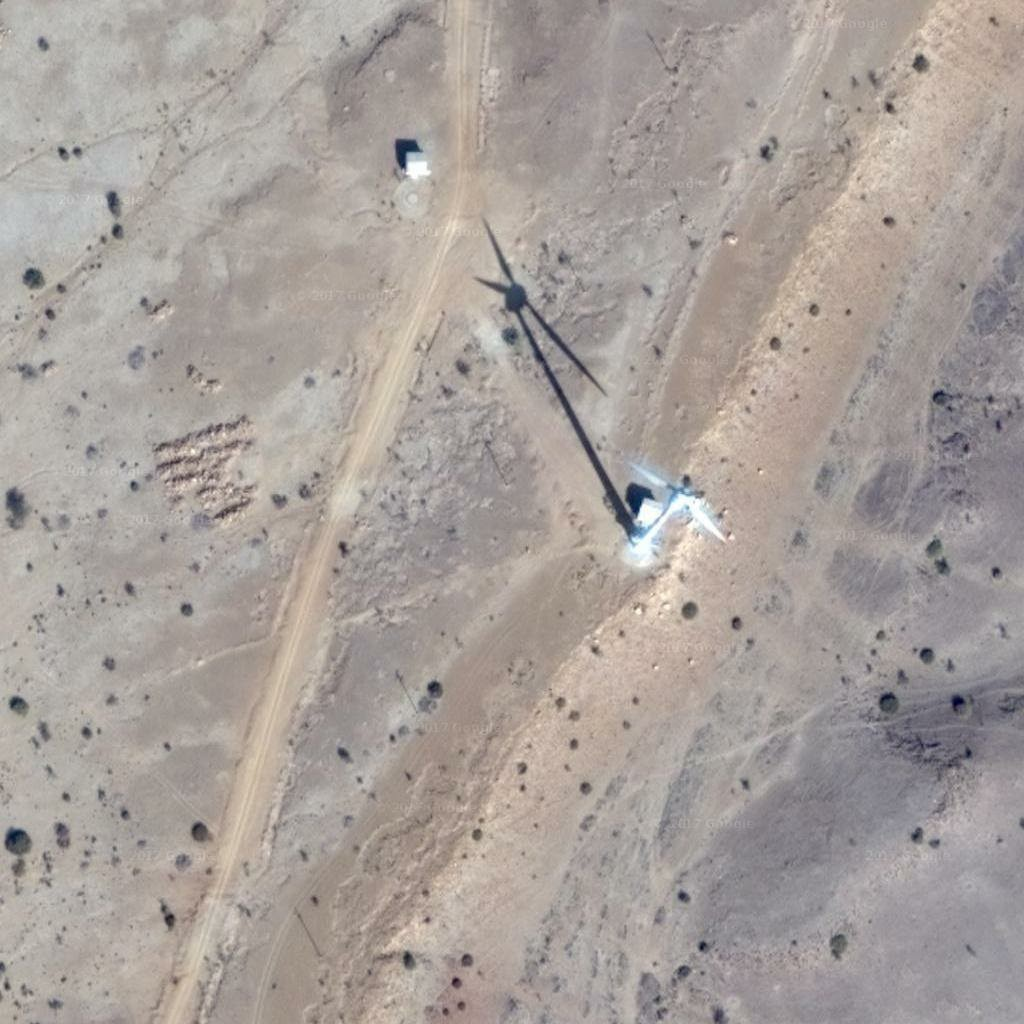Windmill: (460, 217, 642, 501)
